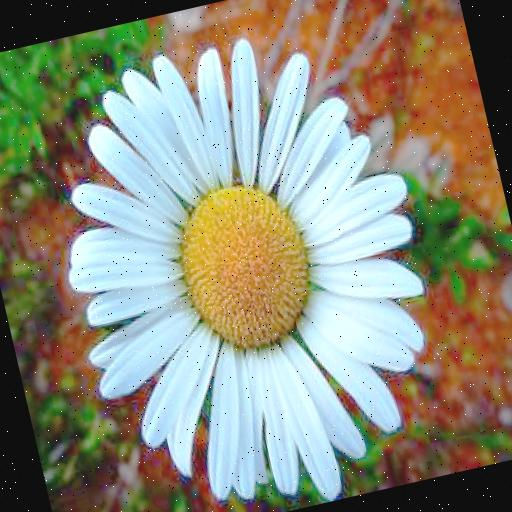daisy: (41, 23, 452, 512)
